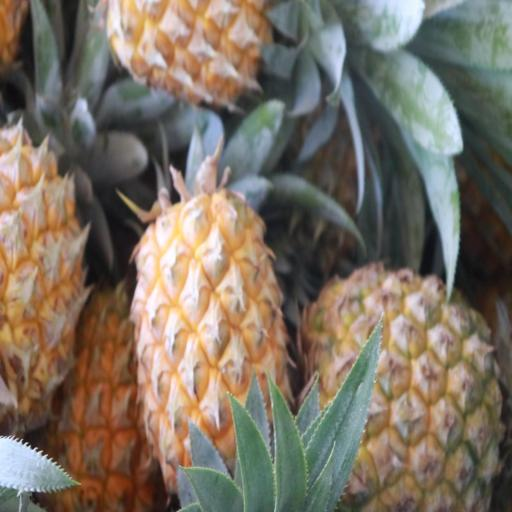Pineapple - v8 v1: (301, 269, 501, 512), (137, 199, 293, 506), (106, 0, 339, 119), (0, 130, 94, 418), (44, 281, 159, 512)
